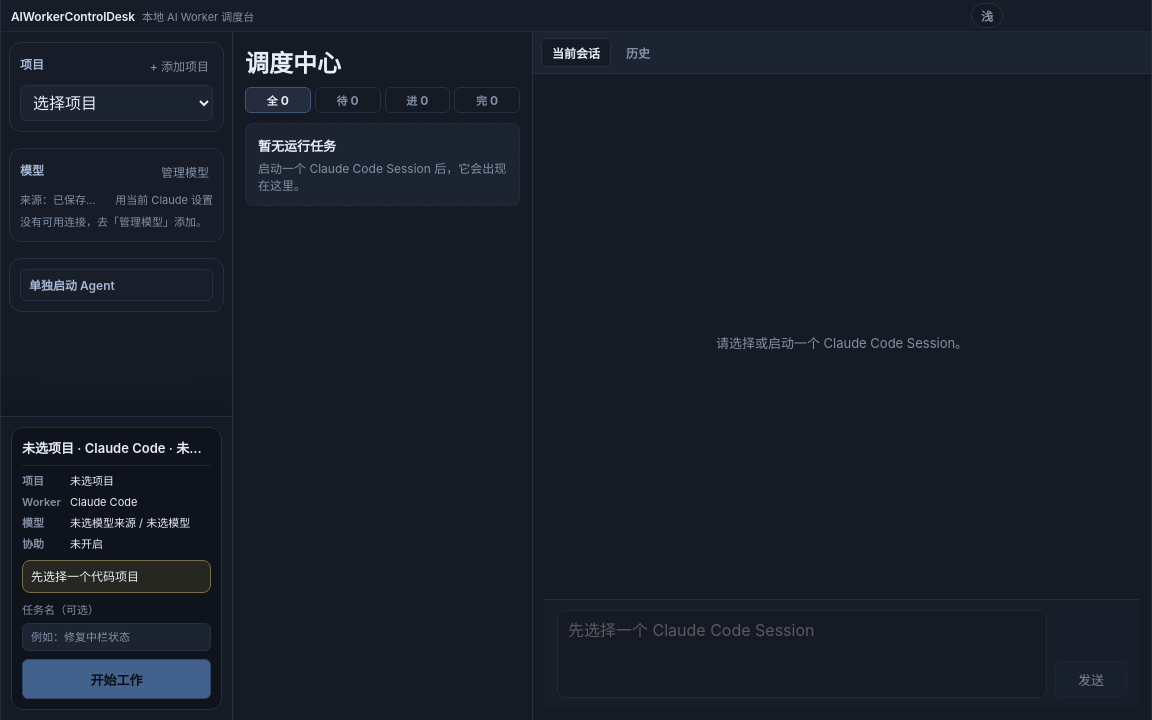
Test: App theme modes › switches to light theme and persists it
Click the button named "切换到浅色模式" at (987, 16), box x1=971 y1=3 x2=1003 y2=28
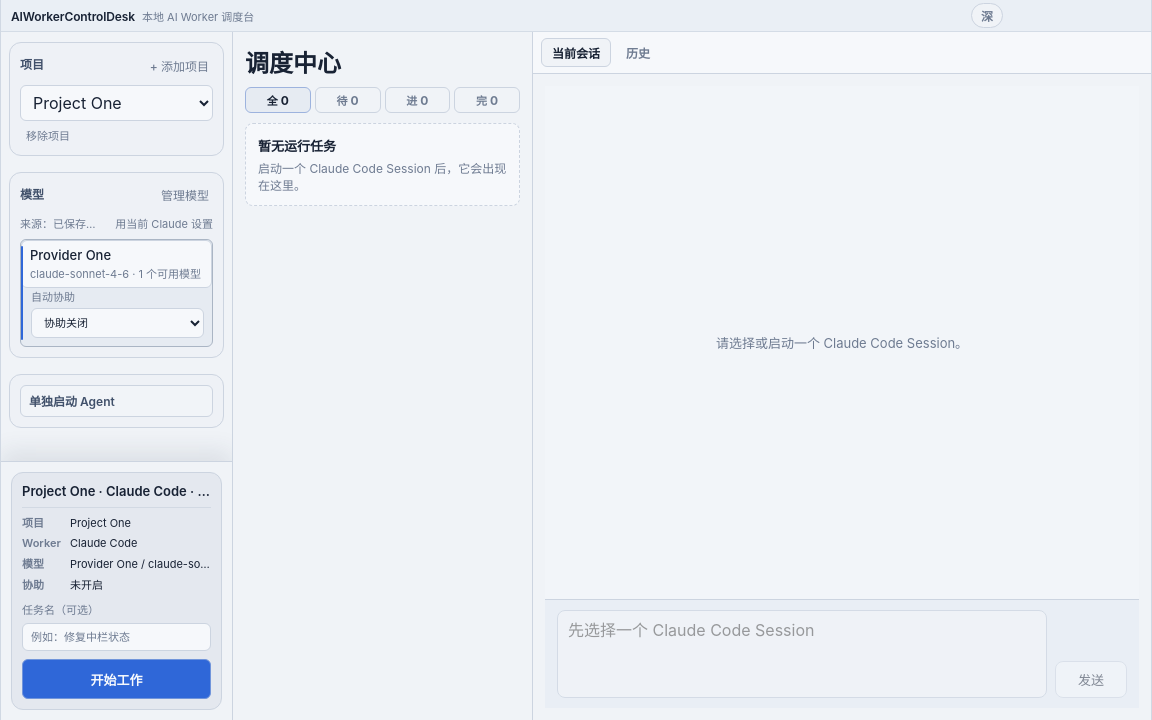
Check: the button named "切换到深色模式" reads "深", box x1=971 y1=3 x2=1003 y2=28
